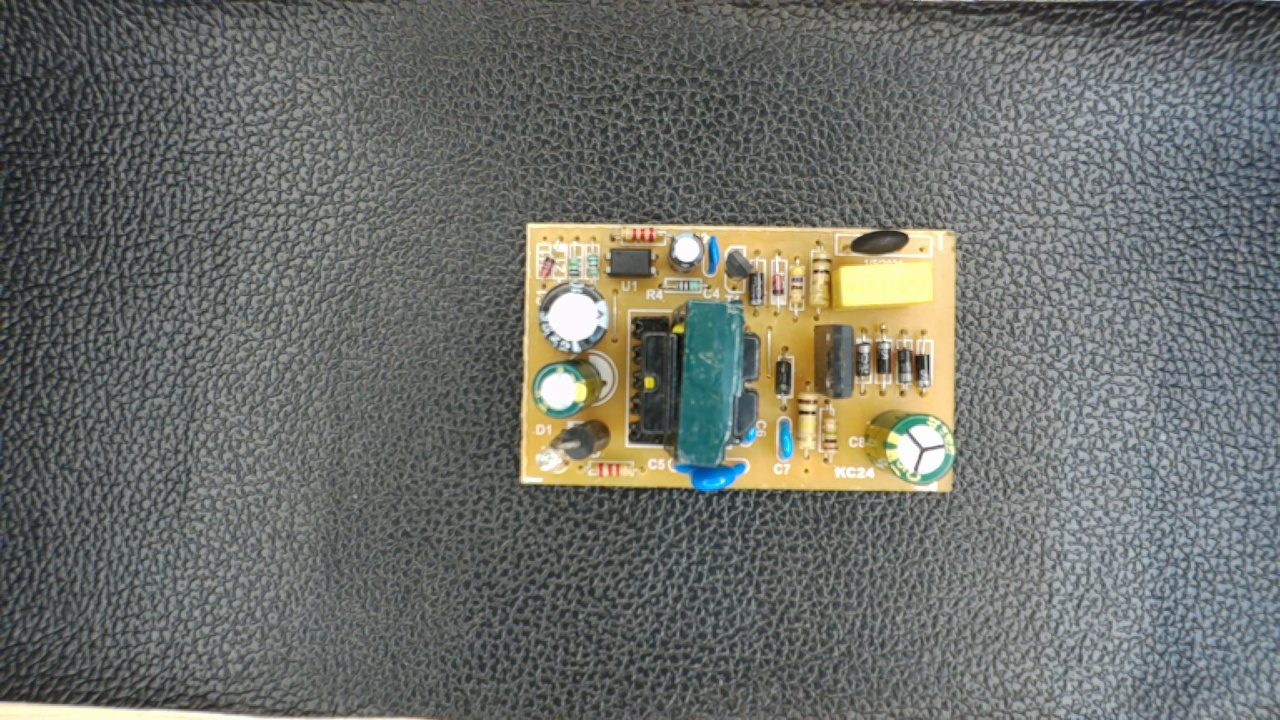fuse: (842, 227, 920, 255)
hv_capacitor: (863, 405, 954, 485)
mov: (668, 458, 759, 491)
optocoupler: (597, 243, 660, 279)
